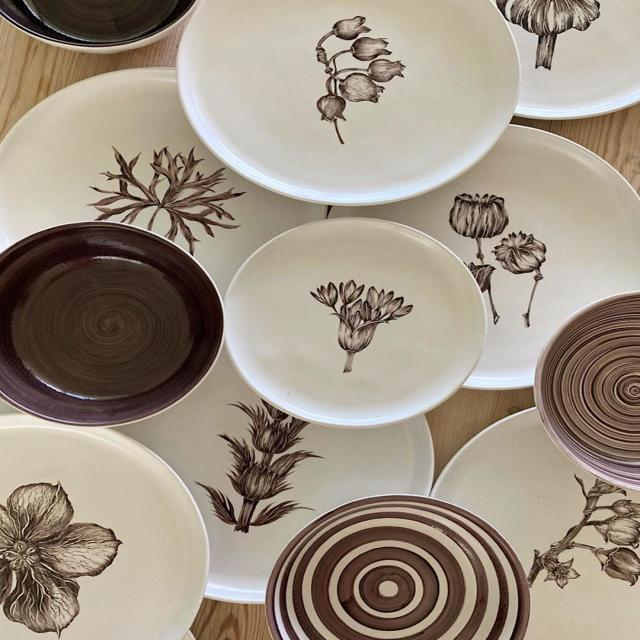non-organic waste: (176, 13, 558, 180), (228, 224, 488, 426), (0, 409, 208, 640)
